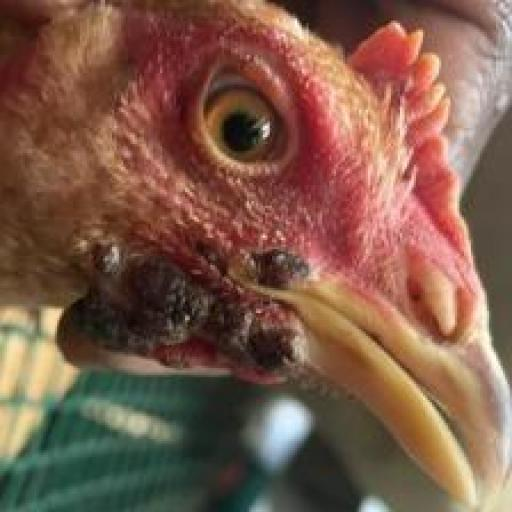disease: (36, 203, 367, 398)
